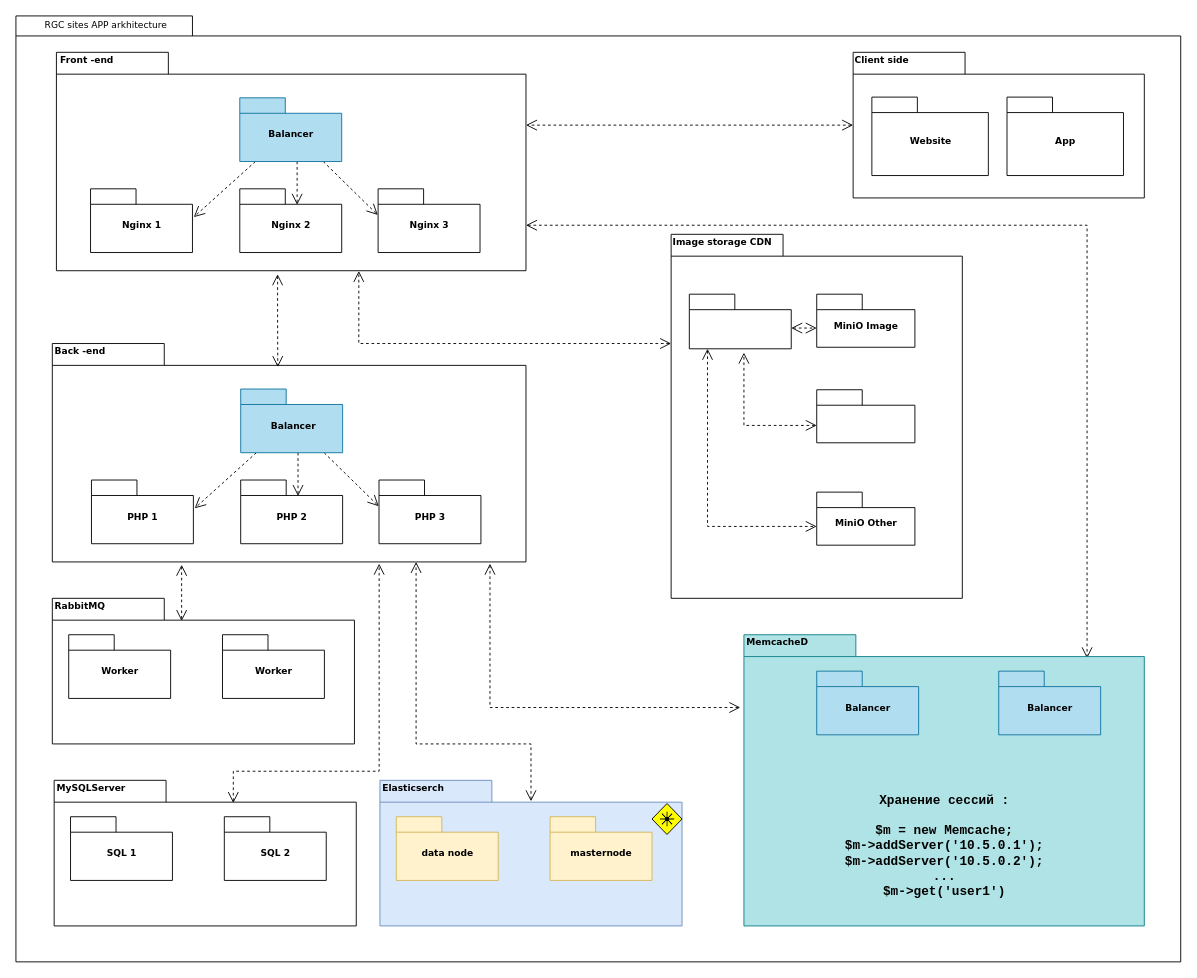
The diagram is 1197 pixels wide and 978 high, and some of its shapes have lost their labels. Here are the shapes that lost their labels. From the top down, the centre of each, then its label:
[739,321]: Nginx
[865,416]: MiniO Video
